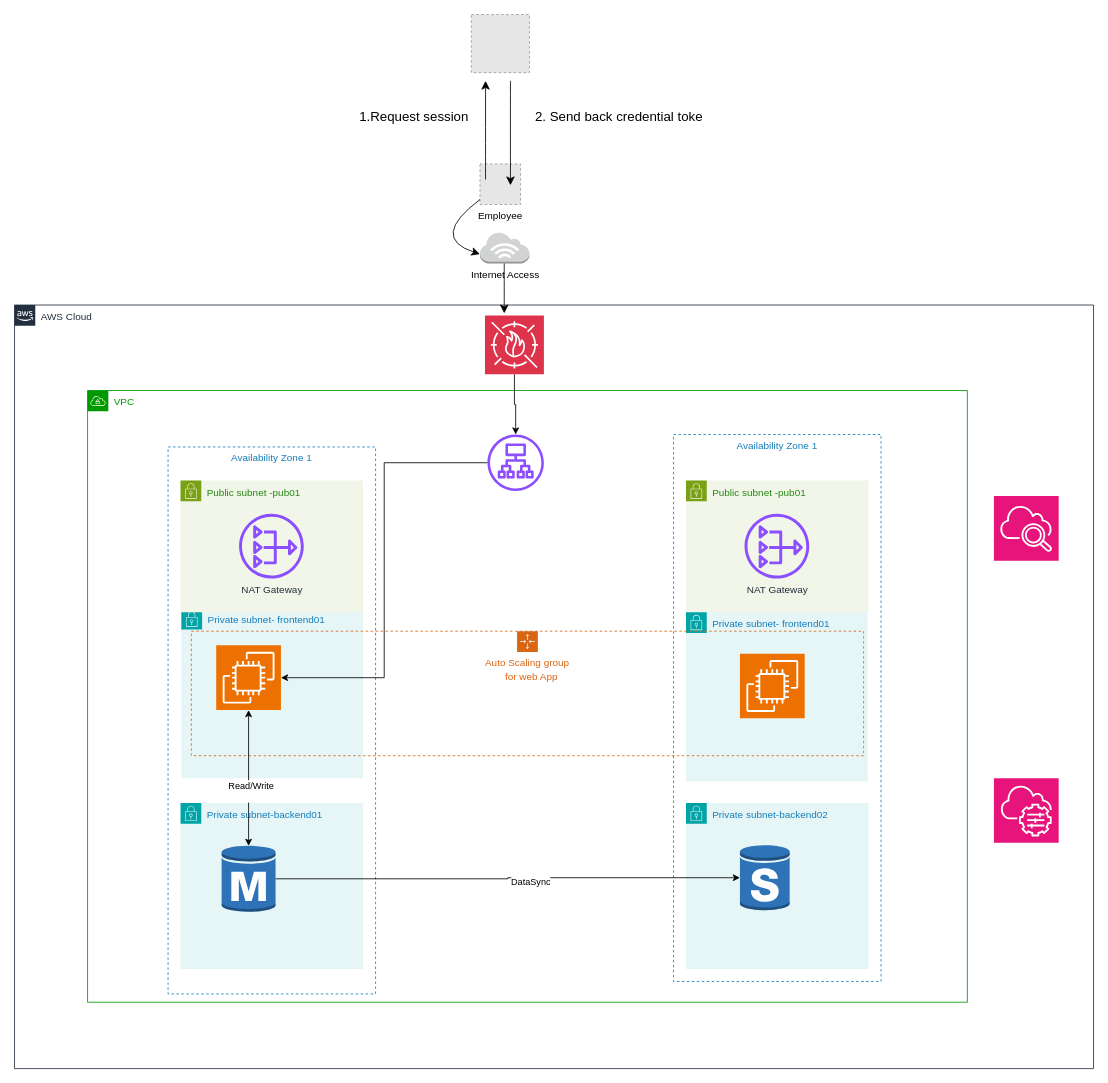
Image size: 1108x1083. Some labels were removed from this diagram. Grey dashed boxes stand in for pictures. Each missing label, with the centre of its shape:
"Application Load Balancer" belongs at (x=515, y=462).
"AWS Cloudwatch" belongs at (x=1026, y=528).
"AWS Systems Manager" belongs at (x=1026, y=810).
"AWS WAF Web Application Fire Wall" belongs at (x=514, y=344).
"Primary DB instance" belongs at (x=248, y=878).
"Production EC2" belongs at (x=248, y=677).
"Standby DB instance" belongs at (x=764, y=877).
"Test EC2" belongs at (x=772, y=685).
